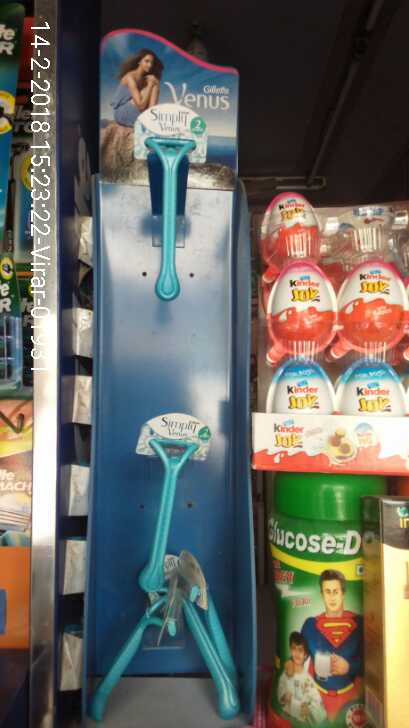beauty: (133, 104, 209, 306), (133, 419, 208, 591)
